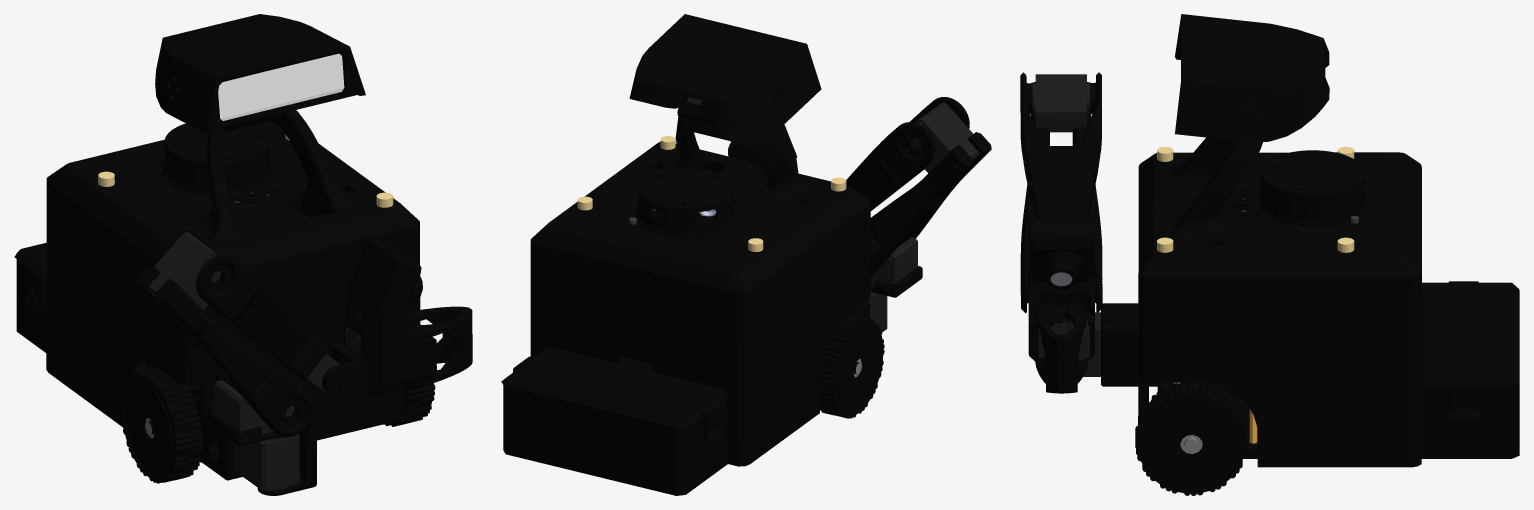
The model's file is mars-robot.glb.
3 renders of one model, left to right at view 1: azimuth 30°, elevation 25°; view 2: azimuth 150°, elevation 25°; view 3: azimuth 270°, elevation 25°, orthographic. The views are drawn at different scales.
Parts seen in each view (by area): view 1: BatteryCover, Head, Layer4, Link2, Link3, WheelRight, Shape_IndexedFaceSet.2085, Layer1, LidarTop, Link1, CameraCover, Link6Right (+5 smaller); view 2: BatteryCover, Layer1, Head, Layer4, Link2, LidarTop, WheelRight, Link3, Link1, Lidar, CameraCover, NutBackLeft; view 3: BatteryCover, Head, Layer4, Layer1, WheelLeft, Link3, Shape_IndexedFaceSet.2085, LidarTop, Link2, Lidar, Link6Left, Link6Right (+1 smaller).
Boxes of the visible parts, x1,y1,x2,y2 form: BatteryCover: (14, 121, 420, 440); Head: (155, 14, 365, 133); Layer4: (113, 107, 373, 247); Link2: (134, 232, 314, 437); Link3: (158, 226, 339, 396); WheelRight: (120, 368, 203, 483); Shape_IndexedFaceSet.2085: (344, 239, 436, 394); Layer1: (16, 259, 299, 490); LidarTop: (164, 123, 270, 189); Link1: (209, 380, 316, 495); CameraCover: (346, 238, 403, 316); Link6Right: (406, 309, 472, 387); BatteryCover: (501, 141, 870, 466); Layer1: (503, 292, 887, 495); Head: (629, 14, 821, 130); Layer4: (589, 97, 828, 254); Link2: (870, 102, 991, 276); LidarTop: (637, 167, 734, 232); WheelRight: (820, 313, 884, 418); Link3: (846, 97, 969, 210); Link1: (870, 237, 922, 297); Lidar: (628, 188, 743, 241); CameraCover: (760, 124, 797, 162); NutBackLeft: (577, 136, 763, 251); BatteryCover: (1138, 152, 1519, 467); Head: (1175, 14, 1329, 142); Layer4: (1159, 137, 1385, 245); Layer1: (1083, 290, 1519, 458); WheelLeft: (1135, 382, 1247, 495); Link3: (1020, 72, 1101, 218); Shape_IndexedFaceSet.2085: (1028, 221, 1094, 361); LidarTop: (1259, 150, 1365, 220); Link2: (1020, 74, 1102, 313); Lidar: (1221, 185, 1366, 226); Link6Left: (1061, 303, 1088, 392); Link6Right: (1035, 304, 1062, 392).
Bounding box in the file's own units: 2.48 × 2.83 × 3.3.
Materials: 11 (4 with a texture image).
